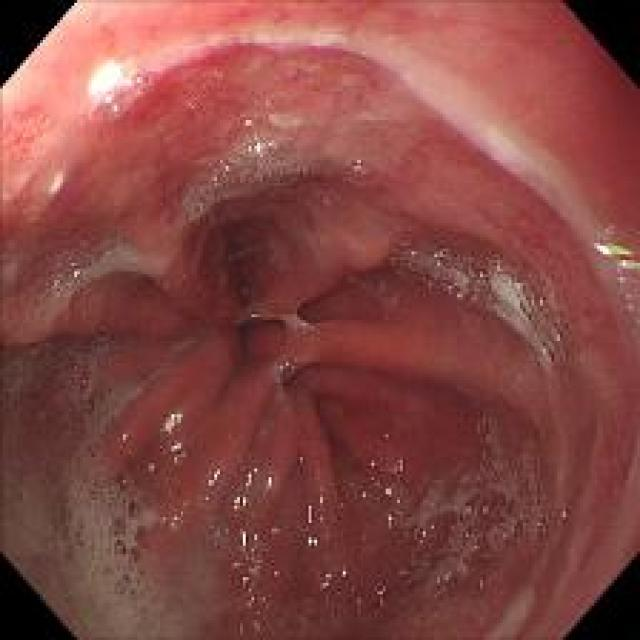bubbles: (70, 451, 154, 621), (175, 164, 319, 210), (26, 248, 115, 306), (54, 344, 106, 420), (462, 490, 510, 570), (222, 108, 291, 156), (465, 255, 531, 305), (100, 532, 148, 586), (112, 472, 148, 521), (341, 146, 379, 182), (81, 94, 129, 122), (424, 569, 465, 595), (238, 282, 262, 324), (369, 580, 398, 612), (84, 442, 112, 475), (270, 351, 300, 379), (528, 510, 552, 544), (204, 61, 236, 81), (32, 108, 54, 130)
color misalignment: (591, 228, 638, 324)
specularity: (228, 529, 282, 635), (199, 460, 282, 518), (370, 420, 410, 532), (154, 401, 200, 478), (296, 476, 340, 555), (309, 570, 352, 592)
